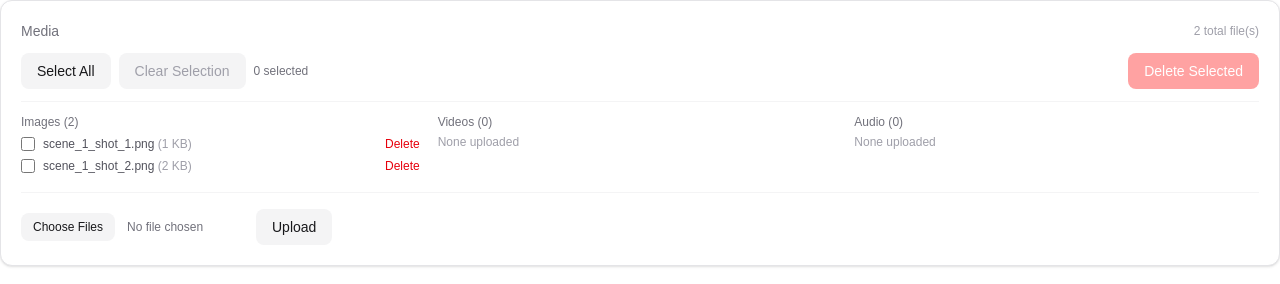
Test: MediaPanel › Select All and Clear Selection update the selected count
Expected: the text "scene_1_shot_1.png" is shown, top-left (43, 137), bottom-right (154, 151)
Step 1. Click the button "Select All" → (66, 71), box top-left (21, 53), bottom-right (111, 89)
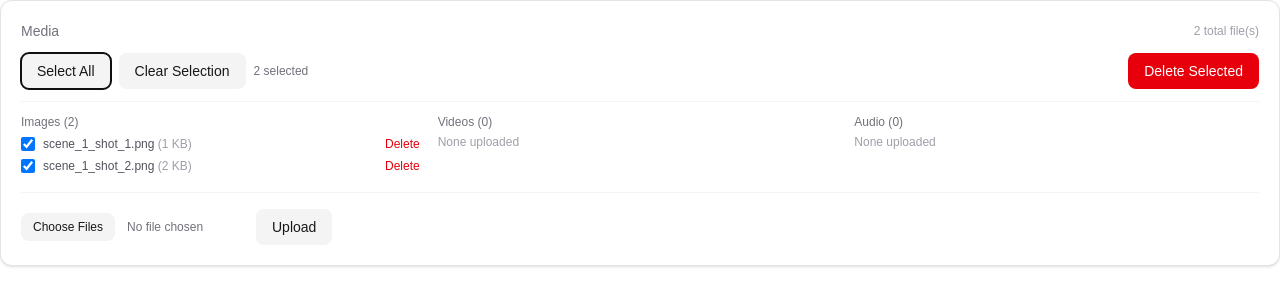
Now the text "2 selected" is shown, box top-left (254, 63), bottom-right (308, 79)
Step 2. Click the button "Clear Selection" → (182, 71), box top-left (119, 53), bottom-right (246, 89)
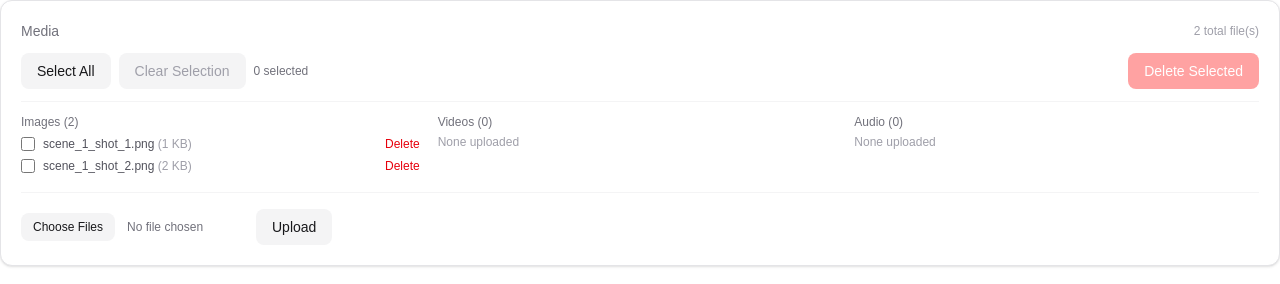
Now the text "0 selected" is shown, box top-left (254, 63), bottom-right (308, 79)
